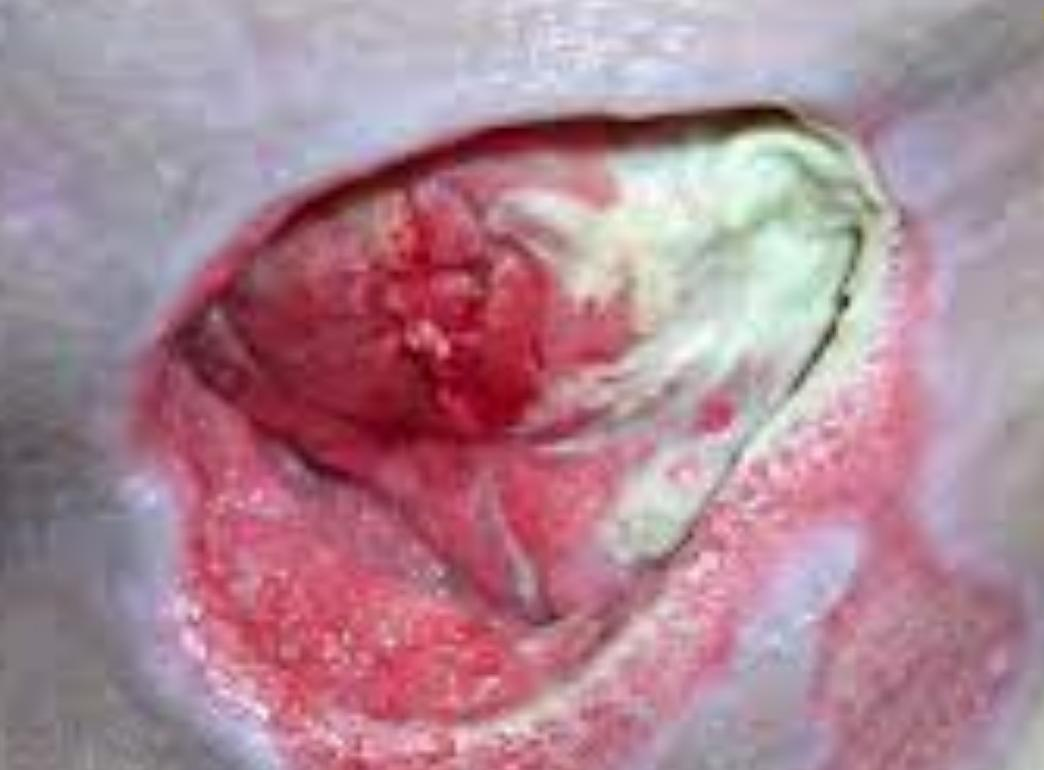Stage2: (82, 51, 864, 770)
